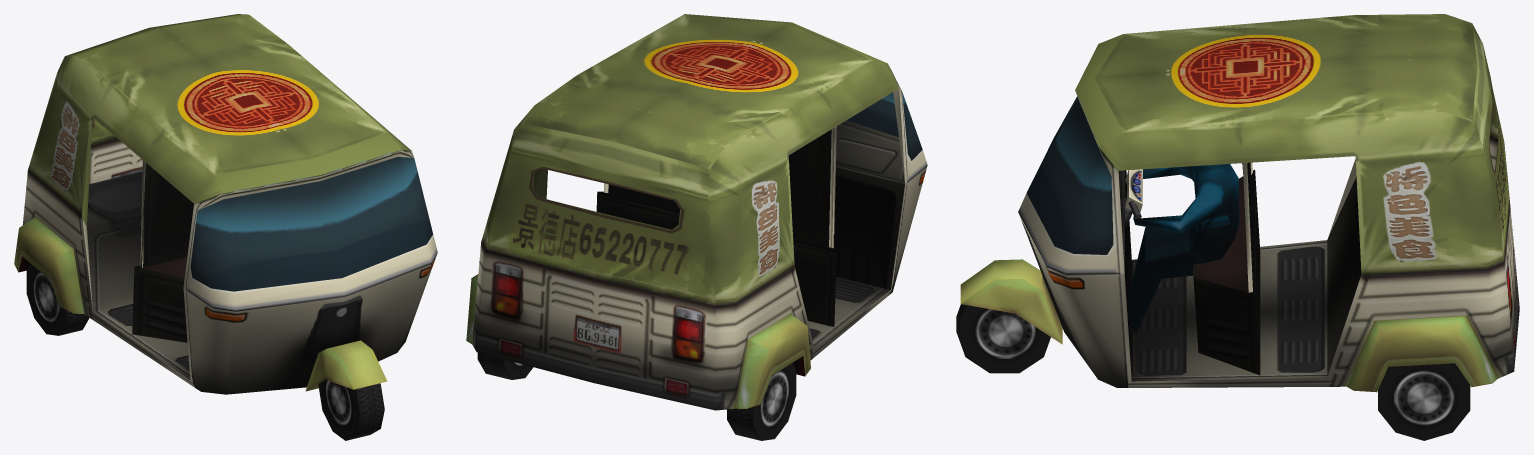
The model's file is traffic_rickshaw.fbx.
3 renders of one model, left to right at view 1: azimuth 30°, elevation 25°; view 2: azimuth 150°, elevation 25°; view 3: azimuth 270°, elevation 25°, orthographic. The views are drawn at different scales.
Parts seen in each view (by area): view 1: as_rickshaw1; view 2: as_rickshaw1; view 3: as_rickshaw1.
Part boxes in pixels (bbox=[...]): as_rickshaw1: bbox=[14, 14, 437, 440]; as_rickshaw1: bbox=[466, 14, 927, 440]; as_rickshaw1: bbox=[956, 14, 1519, 440].
Bounding box in the file's own units: 199 × 186 × 305.
